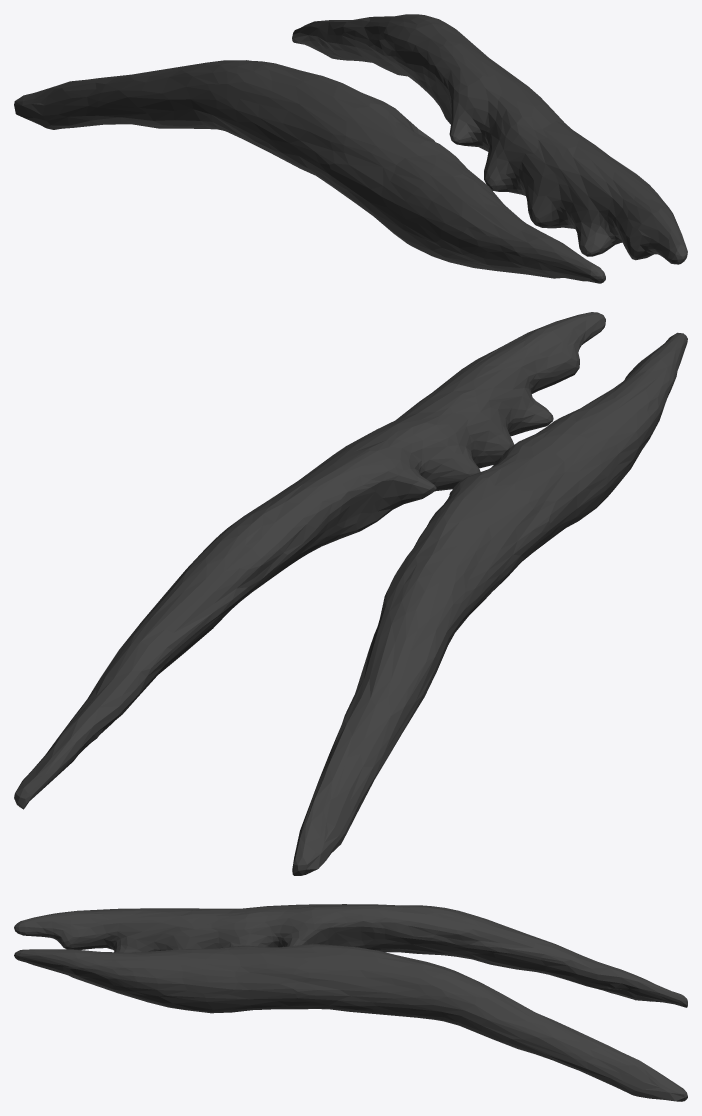
Rendered from m_psoas_minor.glb.
3 views of the same model, one above another, from view 1: azimuth 30°, elevation 25°; view 2: azimuth 150°, elevation 25°; view 3: azimuth 270°, elevation 25° (orthographic). The views are drawn at different scales.
Visible parts, largest first — view 1: m_psoas_minor; view 2: m_psoas_minor; view 3: m_psoas_minor.
Part boxes in pixels (x1,y1,x2,y2): m_psoas_minor: [14, 14, 687, 283]; m_psoas_minor: [14, 312, 687, 875]; m_psoas_minor: [14, 904, 687, 1101].
Size of the model in its own units: 0.0033 by 0.0019 by 0.00917.
Materials: 1 (1 with a texture image).
